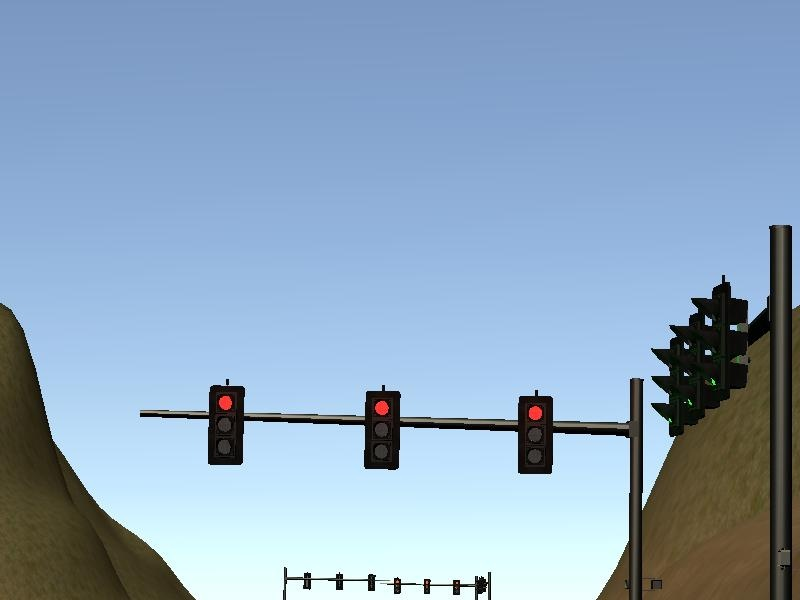Red: (518, 396, 553, 474), (364, 390, 399, 468), (209, 385, 244, 463)
